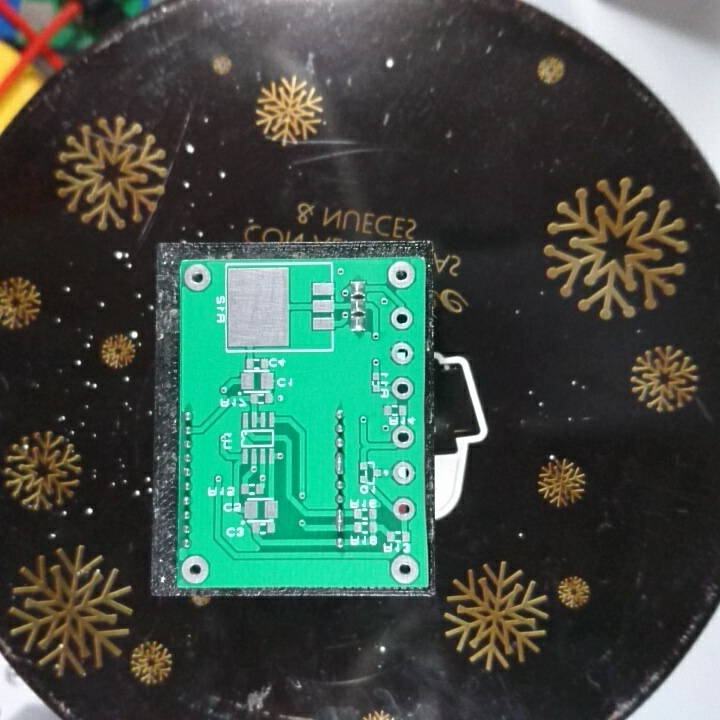F: (383, 259, 421, 293), (388, 551, 423, 585), (182, 261, 214, 294), (179, 551, 213, 582), (389, 458, 418, 488), (389, 495, 418, 524), (389, 303, 417, 333), (388, 340, 416, 367), (388, 375, 415, 402), (392, 423, 417, 450)
P: (331, 506, 349, 537), (332, 449, 347, 477)
